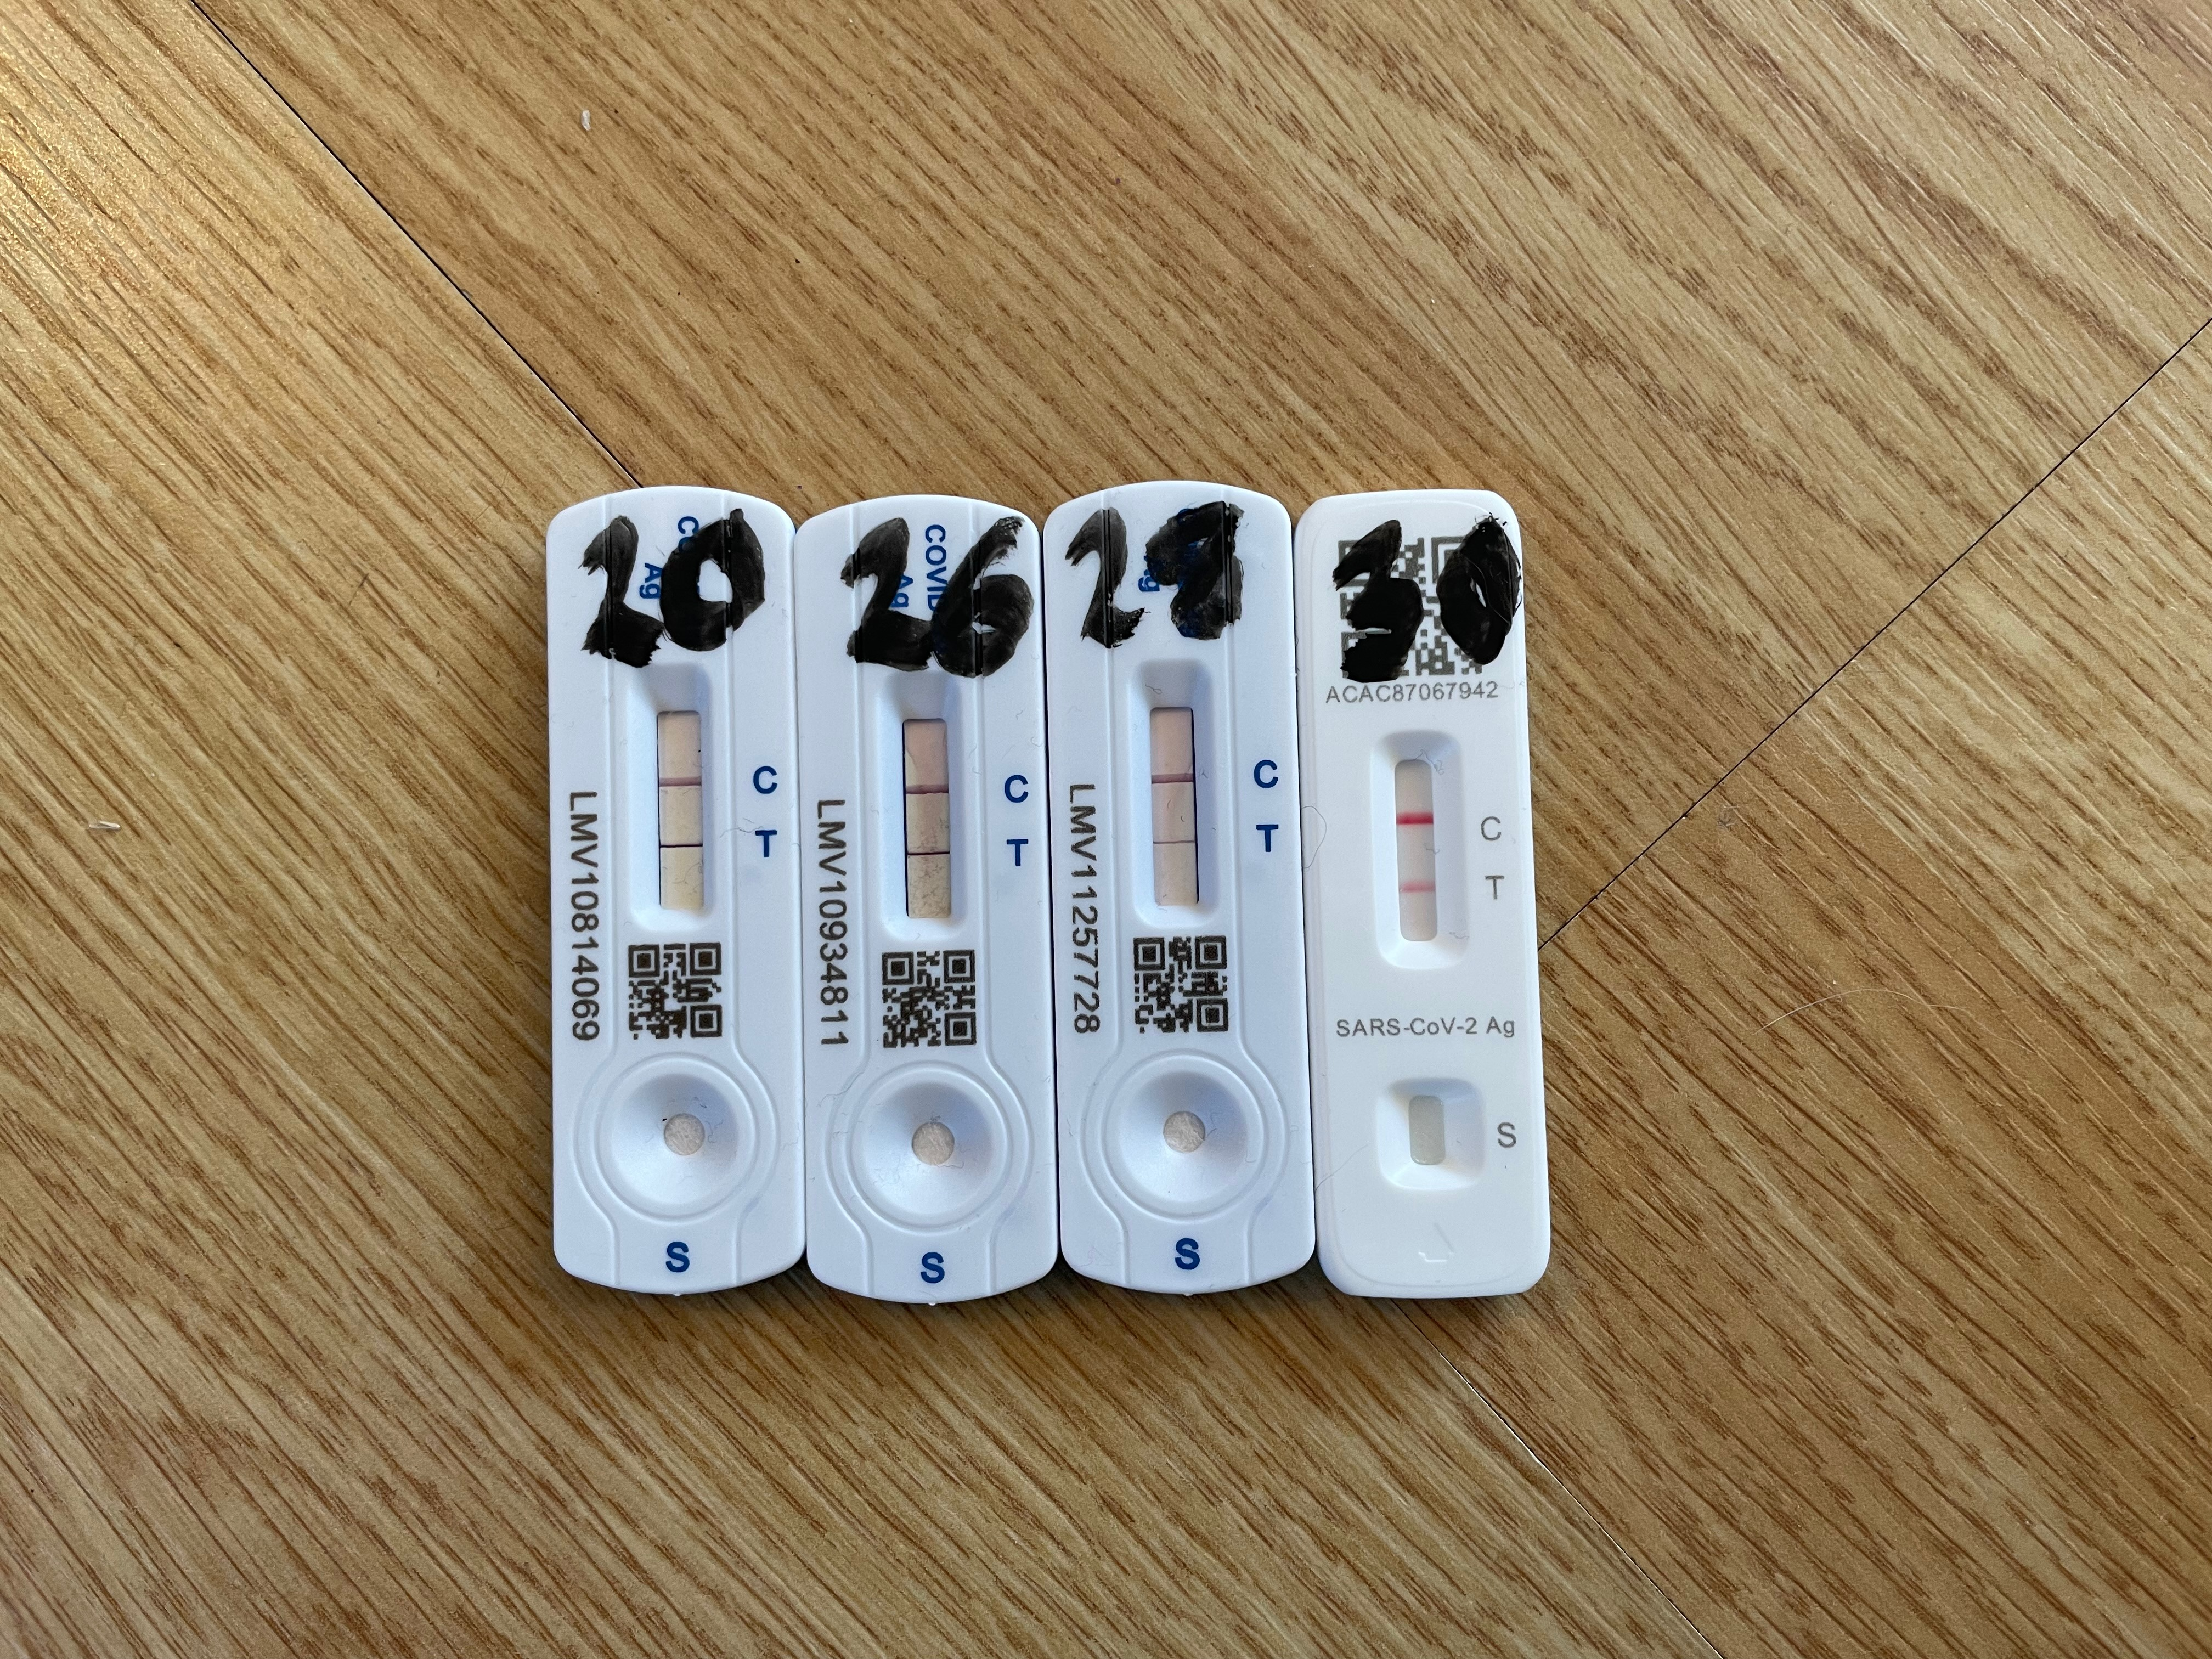positive: (1369, 725, 1463, 971), (632, 685, 718, 931), (1139, 692, 1211, 917), (897, 704, 960, 936)
